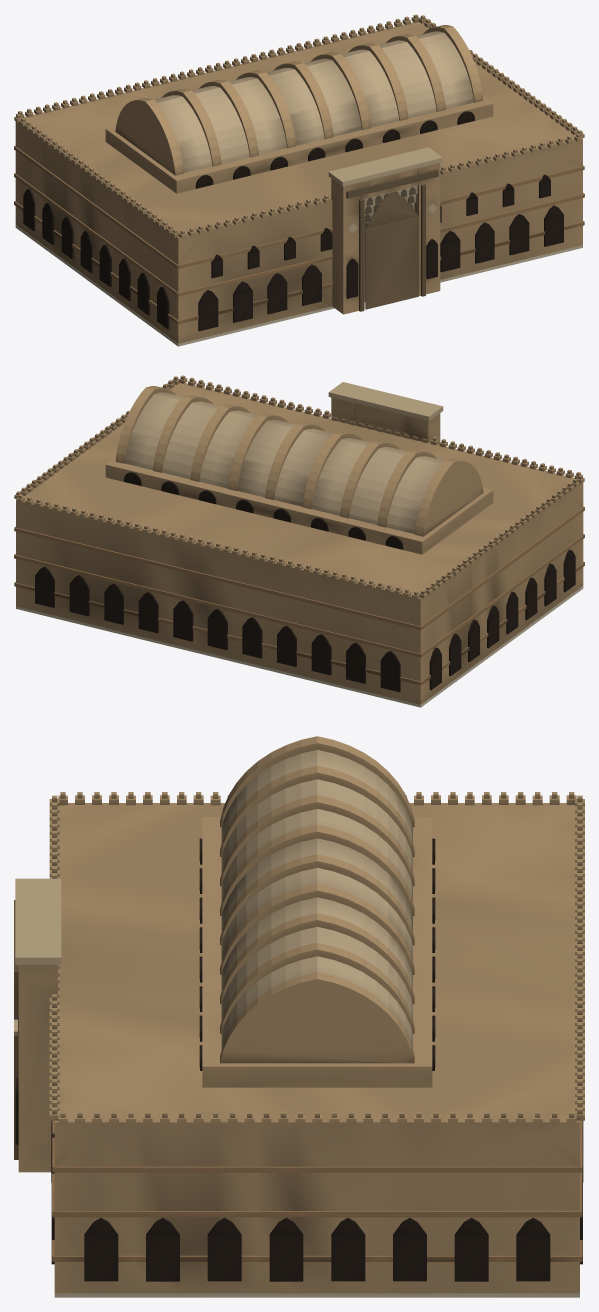
The model's file is khan-mirjan.glb.
3 views of the same model, one above another, from view 1: azimuth 30°, elevation 25°; view 2: azimuth 150°, elevation 25°; view 3: azimuth 270°, elevation 25° (orthographic). The views are drawn at different scales.
Parts seen in each view (by area): view 1: p1_walls, p2_vaulted hall, p3_portal, p0_ground; view 2: p1_walls, p2_vaulted hall, p3_portal, p0_ground; view 3: p1_walls, p2_vaulted hall, p3_portal, p0_ground.
Part boxes in pixels (x1,y1,x2,y2): p1_walls: (14, 14, 584, 343); p2_vaulted hall: (105, 25, 493, 193); p3_portal: (328, 147, 442, 314); p0_ground: (15, 225, 582, 346); p1_walls: (14, 375, 584, 704); p2_vaulted hall: (105, 386, 493, 554); p3_portal: (328, 382, 443, 444); p0_ground: (16, 586, 583, 707); p1_walls: (49, 792, 584, 1293); p2_vaulted hall: (199, 736, 435, 1087); p3_portal: (14, 878, 61, 1172); p0_ground: (54, 1293, 579, 1297).
Size of the model in its own units: 46.6 by 18.86 by 34.77.
